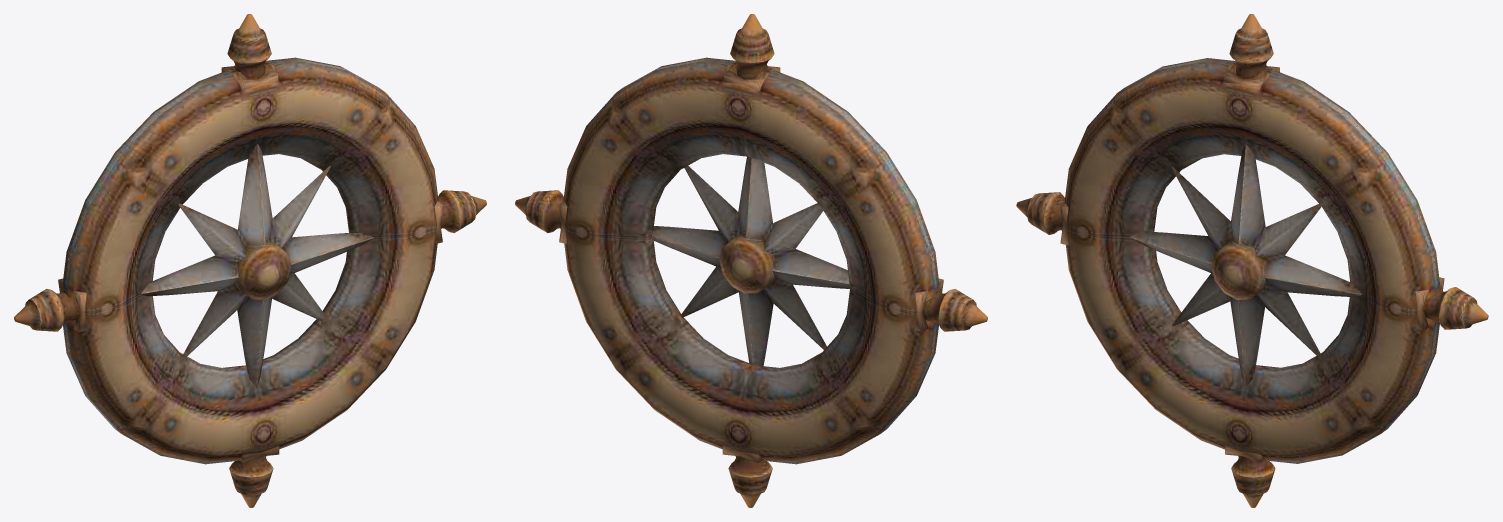
Rendered from luopan-1.FBX.
3 renders of one model, left to right at view 1: azimuth 30°, elevation 25°; view 2: azimuth 150°, elevation 25°; view 3: azimuth 330°, elevation 25°, orthographic.
Visible parts, largest first — view 1: luopan-1; view 2: luopan-1; view 3: luopan-1.
Boxes of the visible parts, <box> form: luopan-1: <box>14,14,486,507</box>; luopan-1: <box>515,14,987,507</box>; luopan-1: <box>1016,14,1488,507</box>.
Bounding box in the file's own units: 25.2 × 25.2 × 3.2.
Materials: 1 (1 with a texture image).
